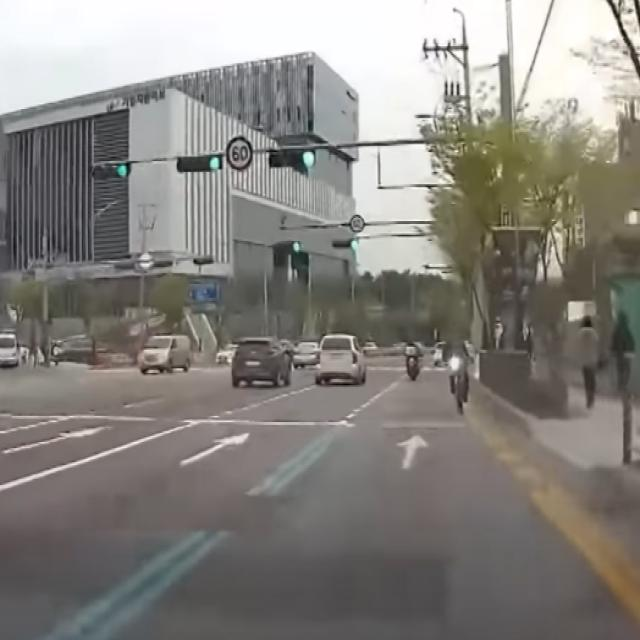Green Light: (302, 149, 316, 167), (116, 162, 128, 177), (208, 156, 220, 171)
